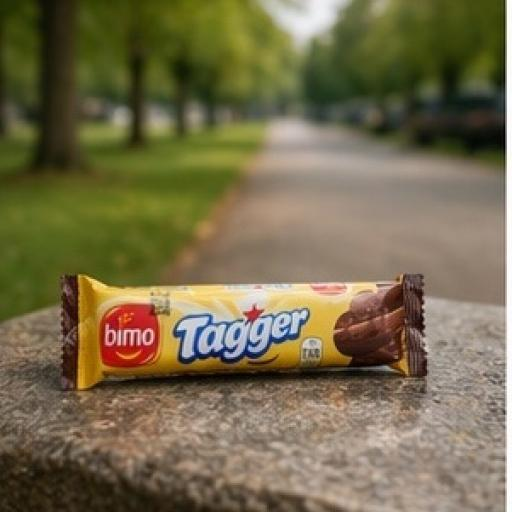tagger: (39, 198, 444, 423)
